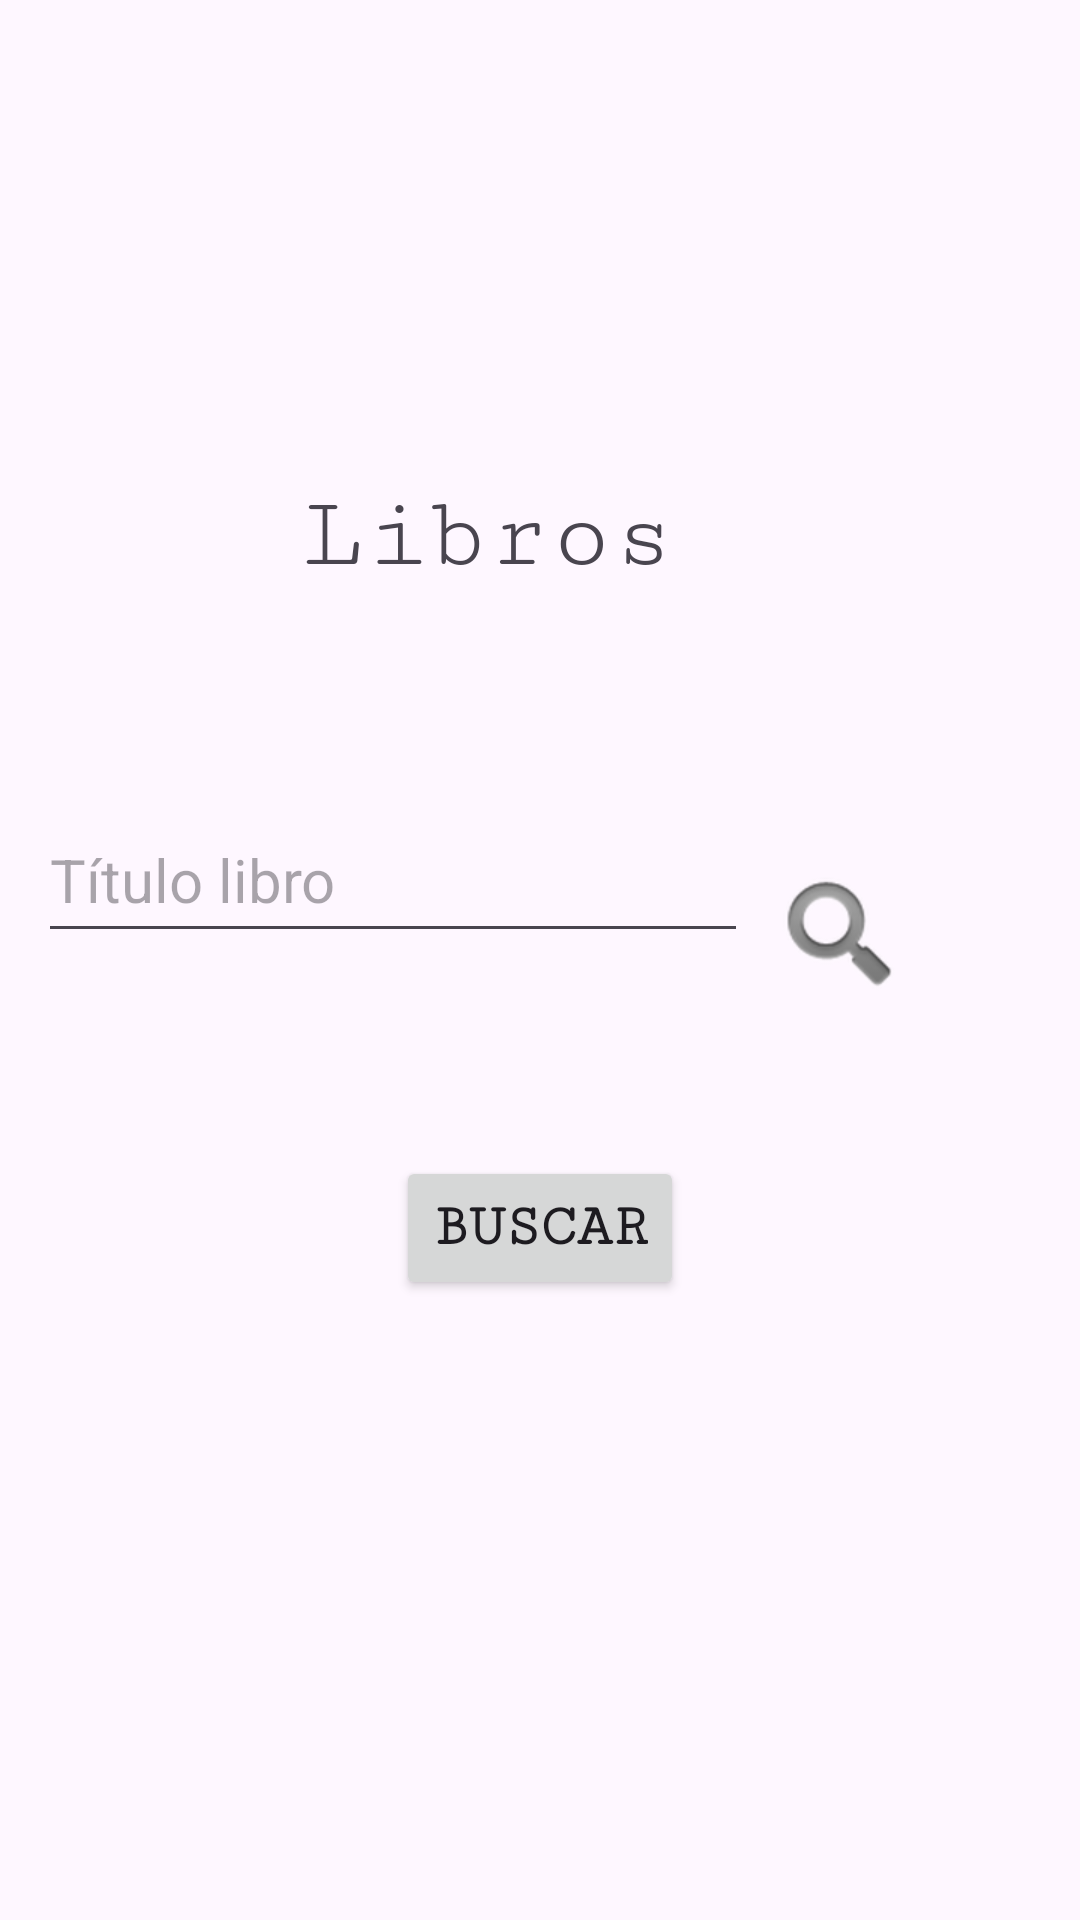

Icon bounding boxes for this 1080*1920 phone screenshot, format (x1=x1, y1=y1, x2=x2, y2=y2):
search category: (x1=787, y1=881, x2=891, y2=985)
